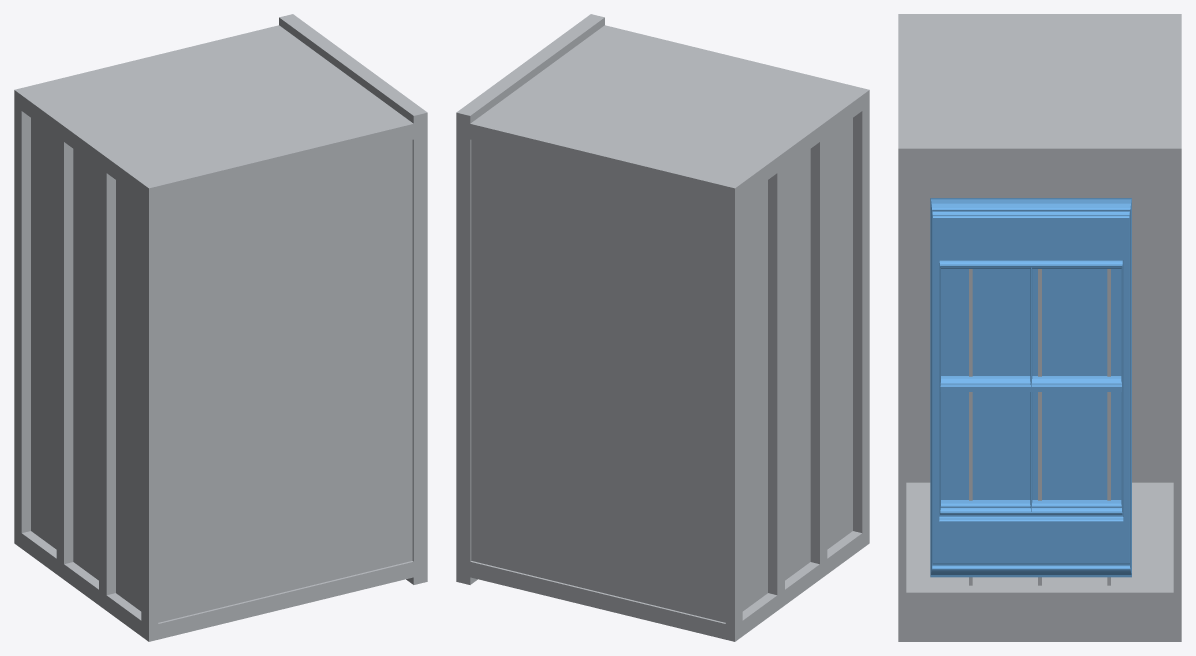
The model's file is parts.glb.
The picture shows the model from 3 angles, left to right: view 1: azimuth 30°, elevation 25°; view 2: azimuth 150°, elevation 25°; view 3: azimuth 270°, elevation 25°; orthographic projection. The views are drawn at different scales.
Parts seen in each view (by area): view 1: visual_0_0; view 2: visual_0_0; view 3: visual_0_0, visual_1_0.
Part boxes in pixels (left/top/right/bottom): visual_0_0: left=14, top=14, right=427, bottom=641; visual_0_0: left=456, top=14, right=869, bottom=641; visual_0_0: left=898, top=14, right=1181, bottom=641; visual_1_0: left=930, top=198, right=1131, bottom=577.
Size of the model in its own units: 0.952 by 1.53 by 0.7956.
